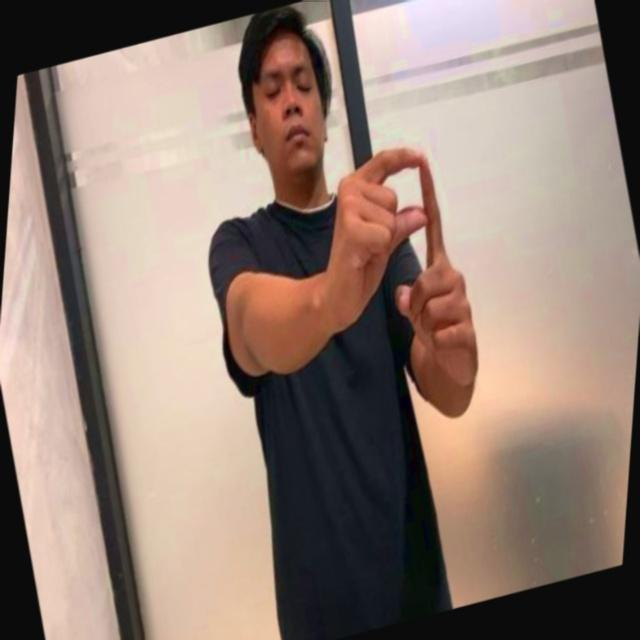P: (340, 136, 468, 359)
